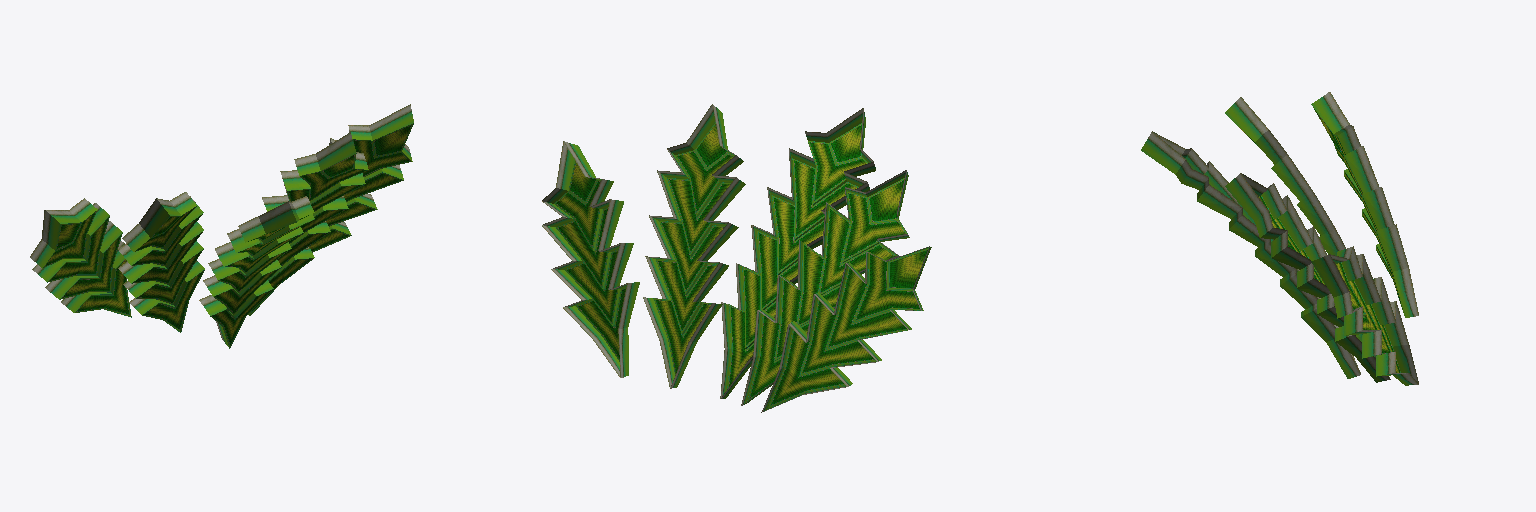
3 renders of one model, left to right at view 1: azimuth 30°, elevation 25°; view 2: azimuth 150°, elevation 25°; view 3: azimuth 270°, elevation 25°, orthographic.
Parts seen in each view (by area): view 1: polygon5, polygon3, polygon1, polygon7, polygon0, polygon2, polygon8, polygon6, polygon9, polygon4; view 2: polygon0, polygon7, polygon4, polygon9, polygon2, polygon6, polygon5, polygon8, polygon1, polygon3; view 3: polygon5, polygon7, polygon9, polygon1, polygon3, polygon8, polygon0.
Part boxes in pixels (x1,y1,x2,y2): polygon5: (199, 196, 314, 348); polygon3: (118, 192, 204, 332); polygon1: (30, 198, 131, 317); polygon7: (248, 132, 368, 315); polygon0: (46, 213, 128, 313); polygon2: (134, 208, 202, 328); polygon8: (309, 126, 410, 250); polygon6: (252, 155, 365, 310); polygon9: (312, 104, 413, 252); polygon4: (213, 215, 308, 344); polygon0: (771, 250, 927, 404); polygon7: (643, 104, 745, 388); polygon4: (729, 125, 866, 385); polygon9: (542, 141, 639, 377); polygon2: (750, 180, 904, 397); polygon6: (656, 125, 732, 372); polygon5: (720, 108, 875, 398); polygon8: (556, 163, 625, 358); polygon1: (761, 246, 931, 412); polygon3: (741, 170, 909, 405); polygon5: (1141, 131, 1360, 378); polygon7: (1225, 173, 1390, 382); polygon9: (1311, 246, 1418, 385); polygon1: (1311, 92, 1418, 317); polygon3: (1225, 97, 1345, 255); polygon8: (1336, 263, 1399, 372); polygon0: (1314, 109, 1402, 308).
Size of the model in its own units: 1523 by 919 by 969.
Materials: 2 (2 with a texture image).